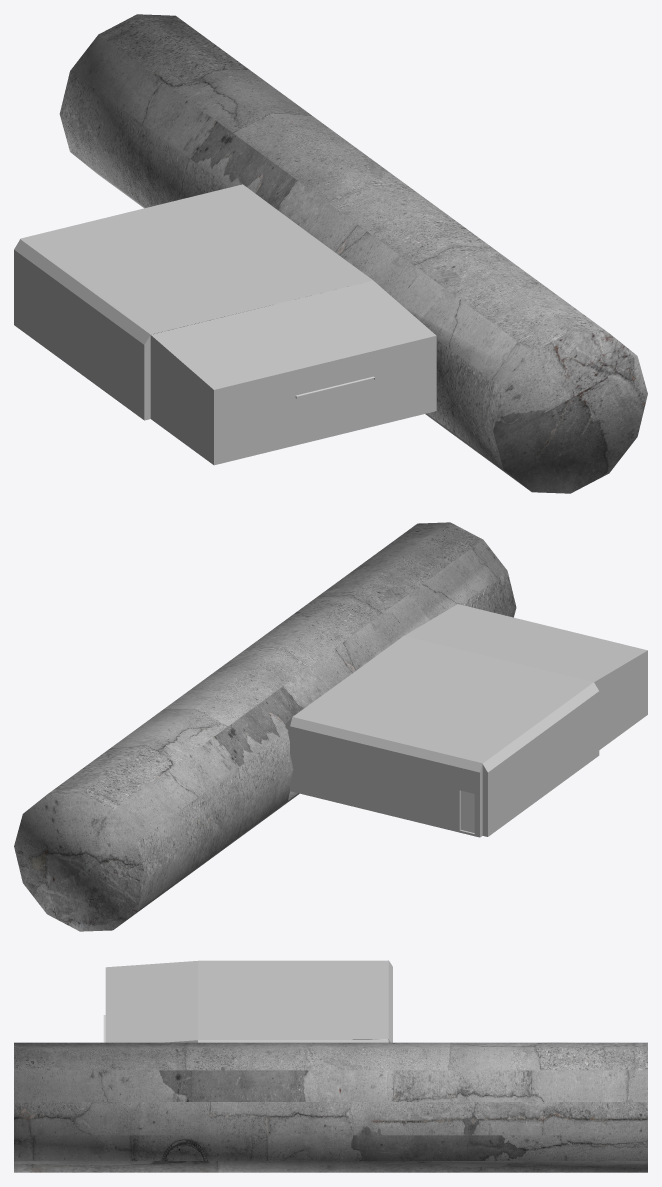
Rendered from estacaoTre.fbx.
3 views of the same model, one above another, from view 1: azimuth 30°, elevation 25°; view 2: azimuth 150°, elevation 25°; view 3: azimuth 270°, elevation 25° (orthographic). The views are drawn at different scales.
Parts seen in each view (by area): view 1: Cylinder, embarcar; view 2: Cylinder, embarcar; view 3: Cylinder, embarcar.
Part boxes in pixels (left/top/right/bottom): Cylinder: left=59, top=14, right=647, bottom=493; embarcar: left=14, top=184, right=436, bottom=465; Cylinder: left=14, top=522, right=516, bottom=931; embarcar: left=285, top=604, right=647, bottom=837; Cylinder: left=14, top=1042, right=647, bottom=1172; embarcar: left=105, top=960, right=392, bottom=1042.
Bounding box in the file's own units: 2378 × 974 × 4731.
